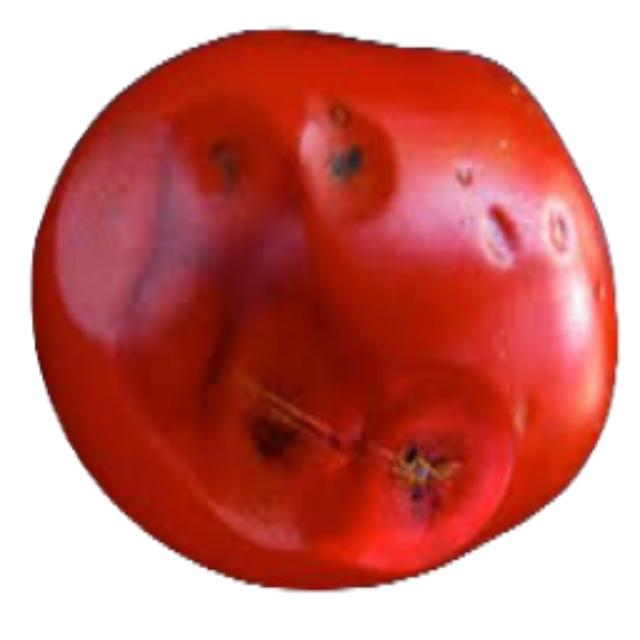defect: (23, 23, 624, 593)
